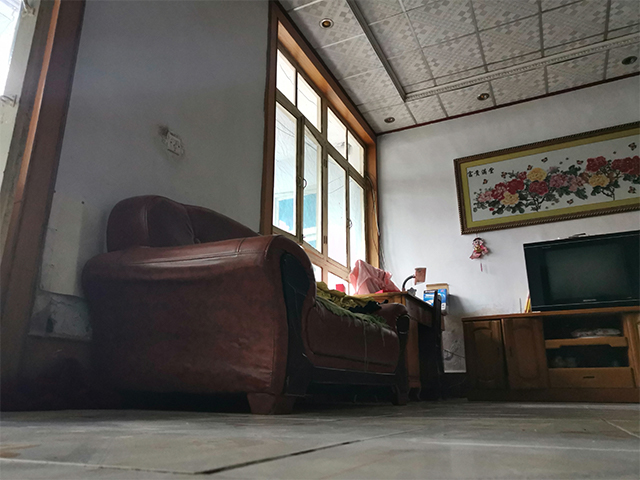cabinet: (458, 301, 640, 405)
sofa: (78, 192, 413, 419)
